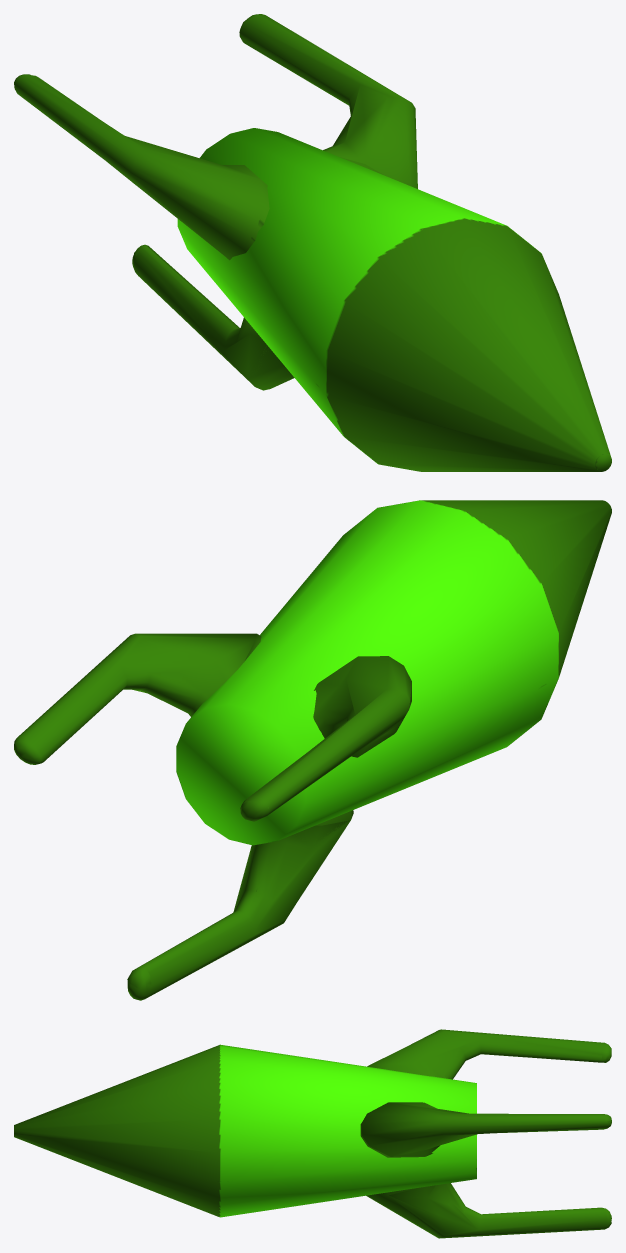
File: powerup.obj
3 views of the same model, one above another, from view 1: azimuth 30°, elevation 25°; view 2: azimuth 150°, elevation 25°; view 3: azimuth 270°, elevation 25° (orthographic). The views are drawn at different scales.
Visible parts, largest first — view 1: Details; view 2: Details; view 3: Details.
Part boxes in pixels (<box>): Details: <box>14,14,611,471</box>; Details: <box>14,500,611,1000</box>; Details: <box>14,1029,611,1238</box>.
Size of the model in its own units: 2.4 by 2.35 by 6.87.
1 material, 1 textured.
